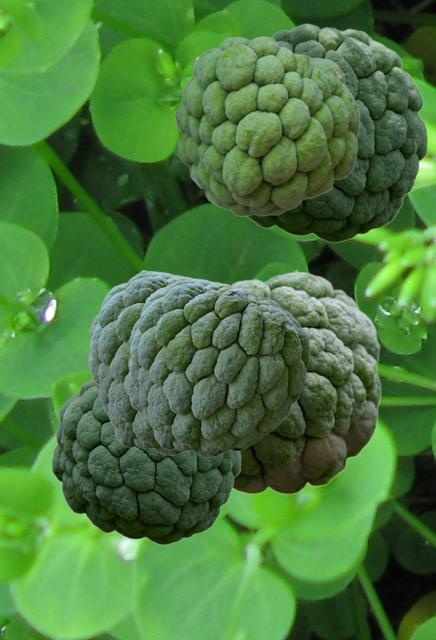atis: (246, 23, 427, 242), (231, 271, 381, 494), (174, 36, 359, 215), (128, 277, 309, 456), (51, 379, 240, 544), (88, 270, 188, 454)
